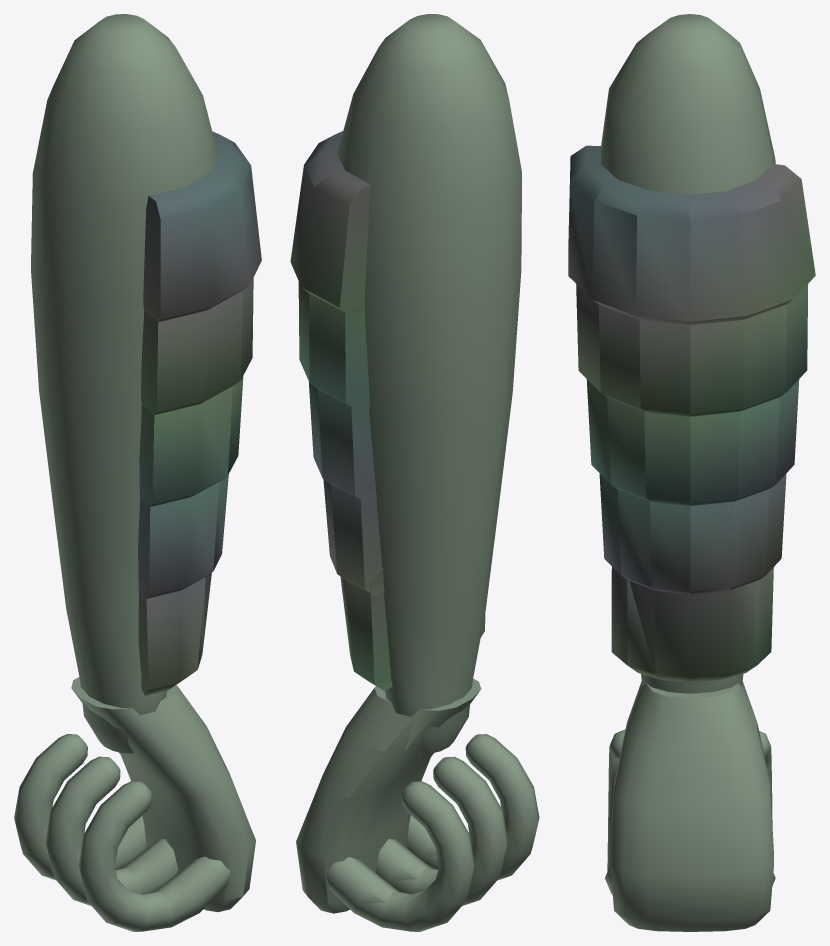
File: forearm_r.glb
3 renders of one model, left to right at view 1: azimuth 30°, elevation 25°; view 2: azimuth 150°, elevation 25°; view 3: azimuth 270°, elevation 25°, orthographic.
Parts seen in each view (by area): view 1: OUT; view 2: OUT; view 3: OUT.
Boxes of the visible parts, box(x1,y1,x2,y2) form: OUT: box(14, 14, 261, 931); OUT: box(290, 14, 539, 931); OUT: box(568, 14, 815, 931).
Bounding box in the file's own units: 0.087 × 0.3629 × 0.0939.
